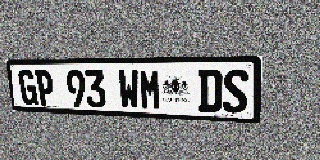3: (84, 70, 106, 108)
9: (65, 70, 87, 107)
D: (198, 69, 222, 113)
G: (18, 70, 38, 105)
M: (139, 69, 162, 110)
P: (34, 70, 55, 106)
S: (223, 69, 249, 114)
W: (118, 69, 140, 109)
